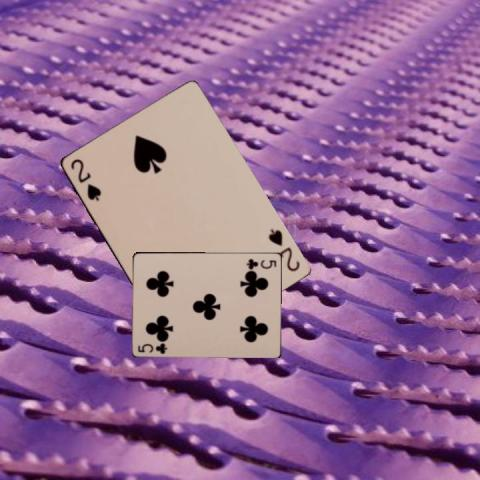2s: (66, 155, 103, 203), (264, 226, 300, 273)
5c: (135, 340, 169, 355), (244, 256, 278, 270)
